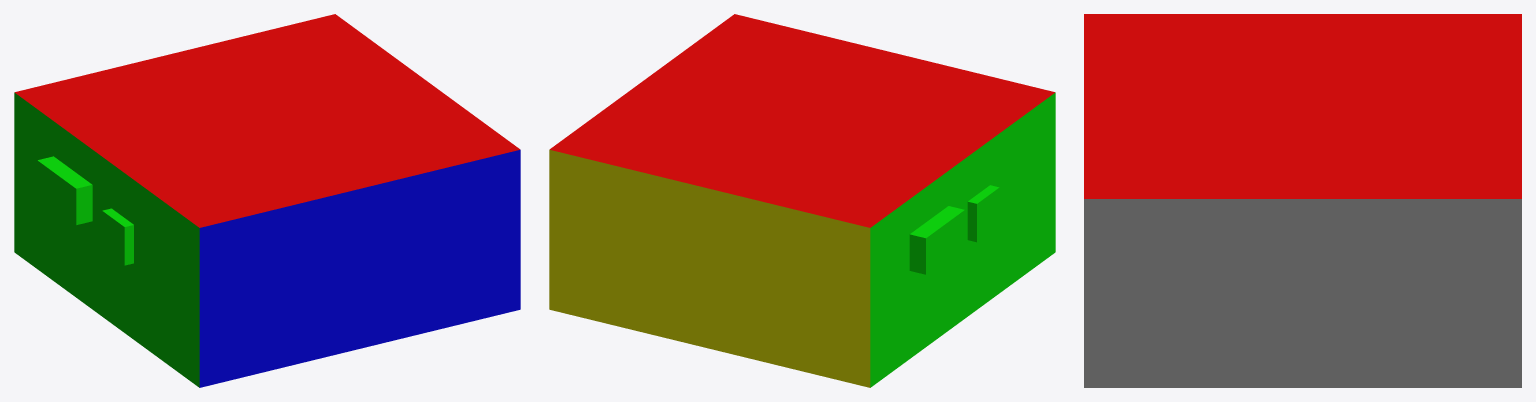
Rendered from walls.fbx.
The picture shows the model from 3 angles, left to right: view 1: azimuth 30°, elevation 25°; view 2: azimuth 150°, elevation 25°; view 3: azimuth 270°, elevation 25°; orthographic projection. The views are drawn at different scales.
Parts seen in each view (by area): view 1: pCube104; view 2: pCube104; view 3: pCube104.
Boxes of the visible parts, left/top/right/bottom form: pCube104: left=14, top=14, right=520, bottom=387; pCube104: left=549, top=14, right=1055, bottom=387; pCube104: left=1084, top=14, right=1521, bottom=387.
Bounding box in the file's own units: 959 × 435 × 913.
